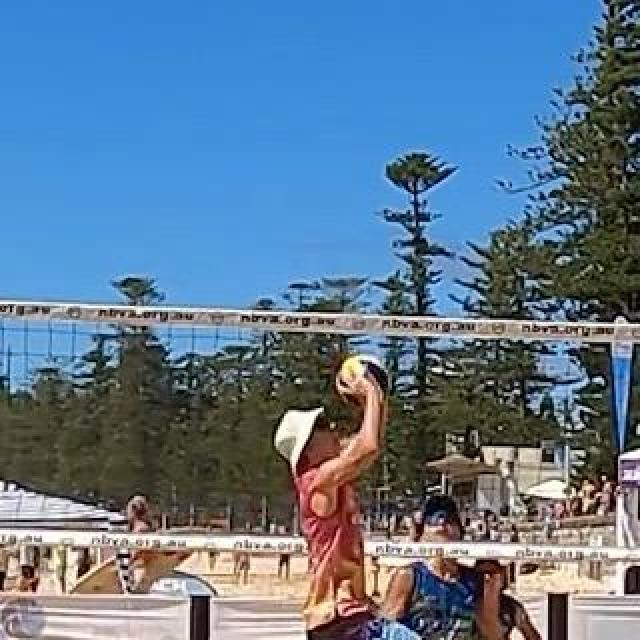volleyball: (335, 356, 389, 410)
